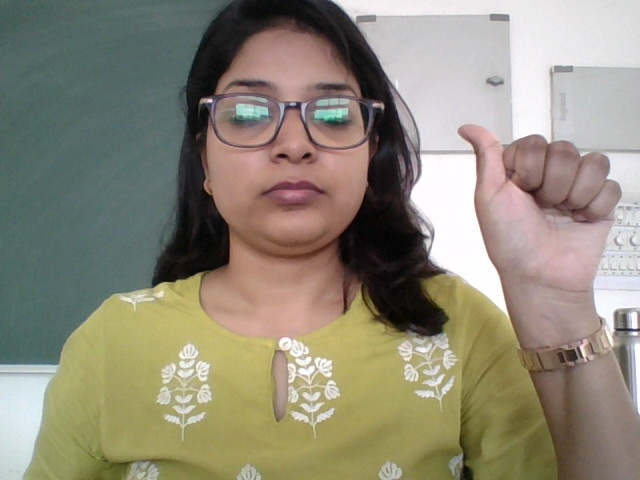A: (446, 107, 631, 326)
